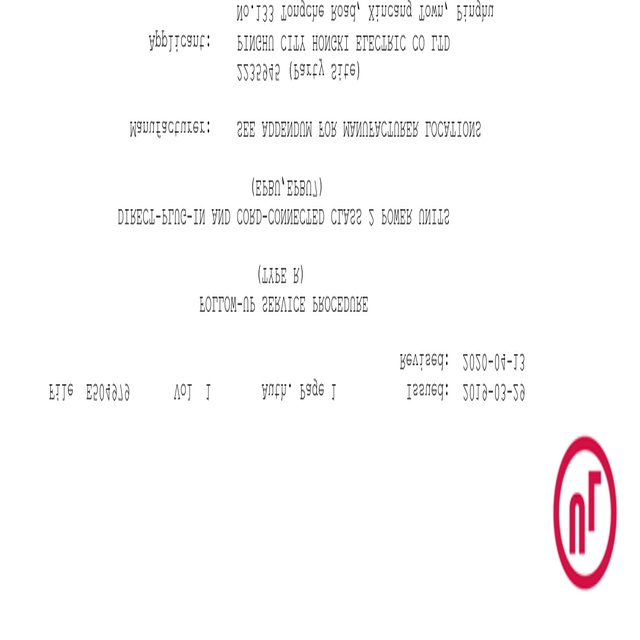ul: (550, 433, 618, 591)
